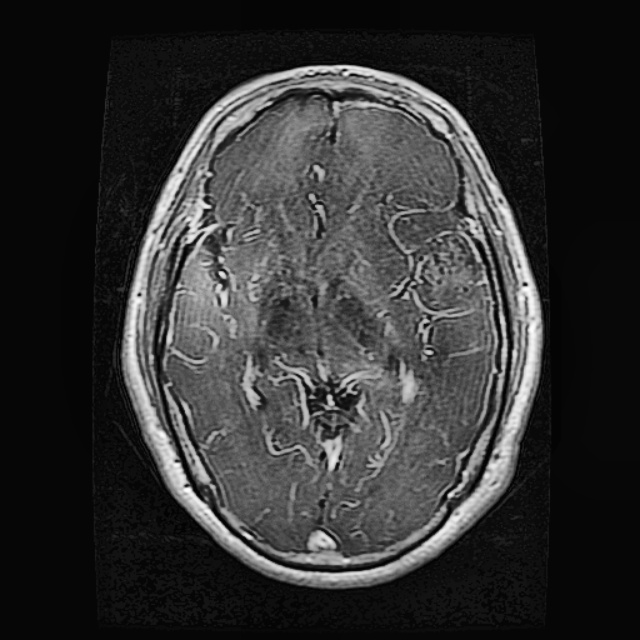Pituitary: (408, 228, 482, 315)
